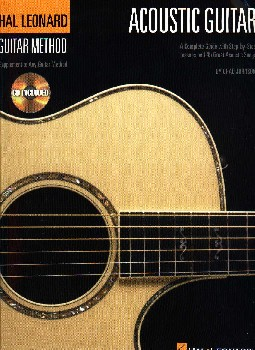guitar: (1, 79, 253, 350)
